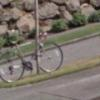bicycles: (1, 31, 64, 82)
